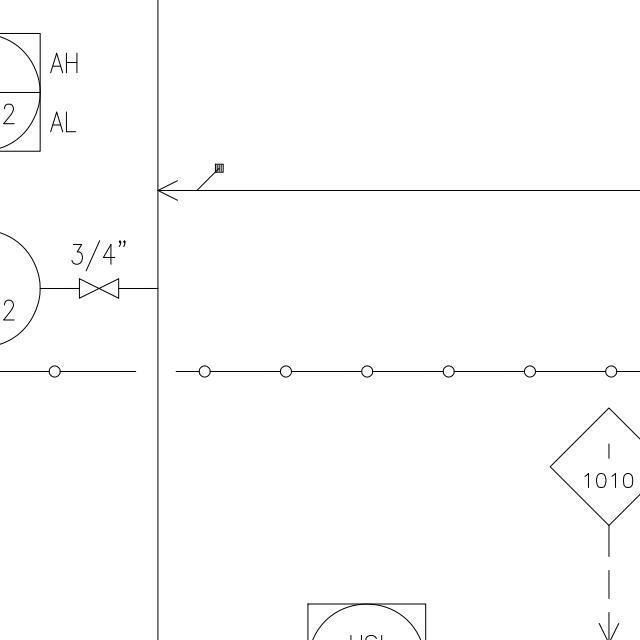GV: (73, 275, 124, 304)
